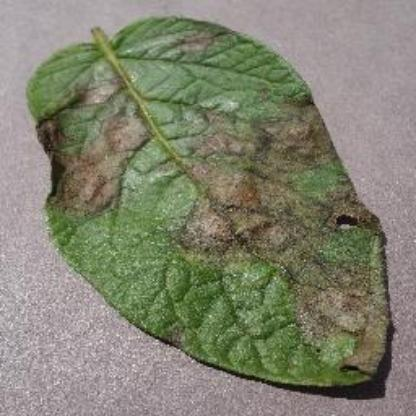Late-Blight: (29, 10, 402, 390)
